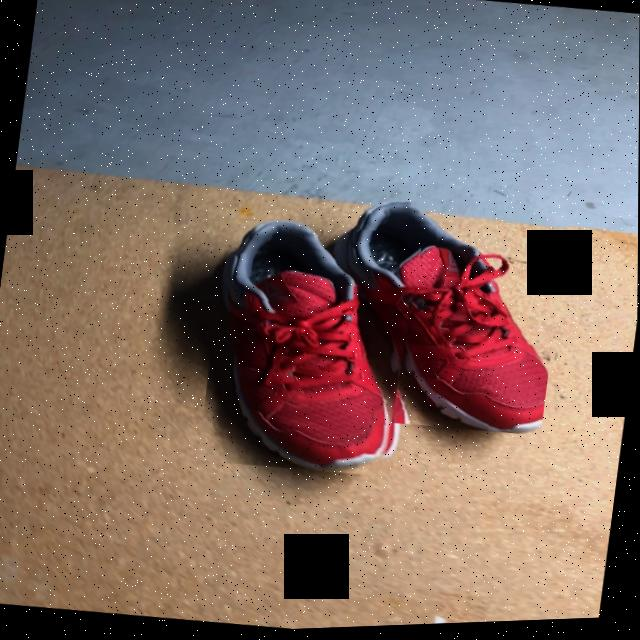shoe: (333, 207, 548, 437), (220, 224, 392, 474)
